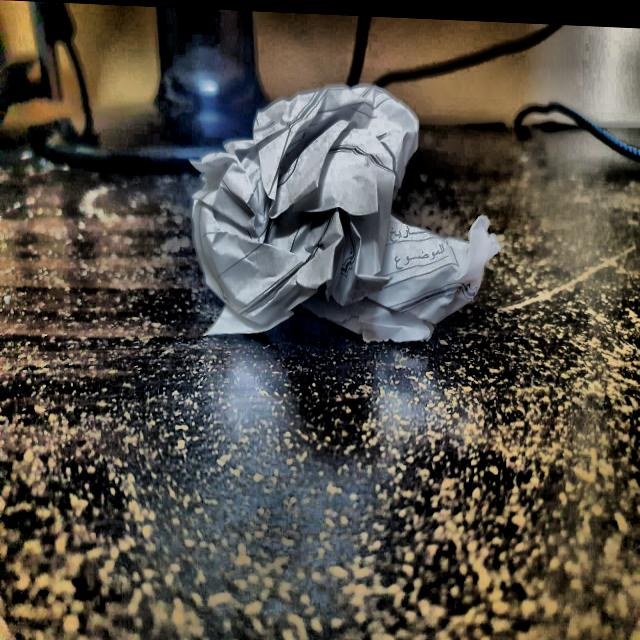Paper: (168, 54, 507, 351)
